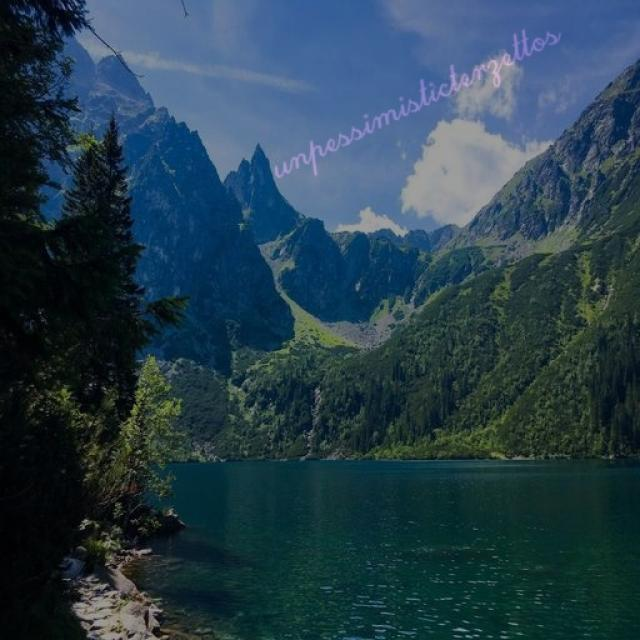watermark: (267, 10, 562, 184)
